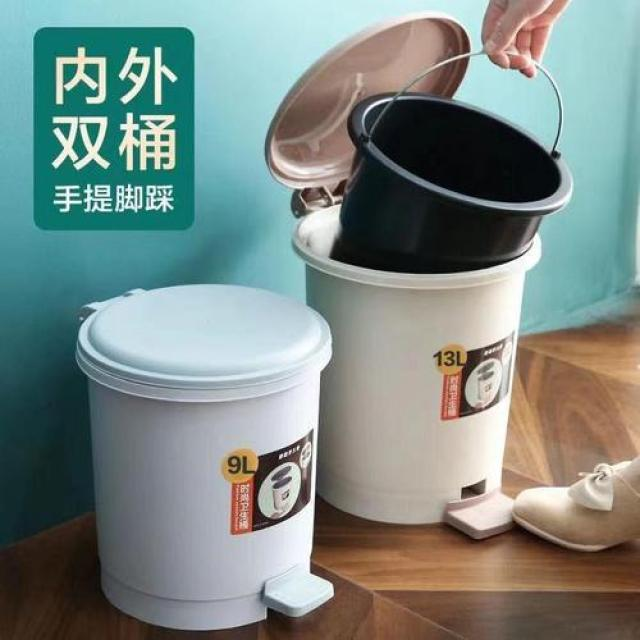dustbin: (262, 9, 577, 539), (68, 276, 342, 636)
